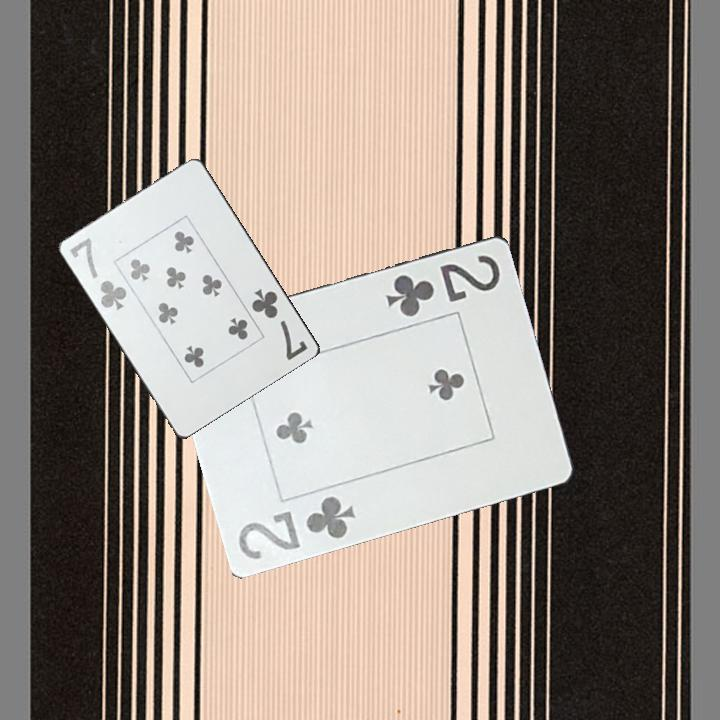2c: (235, 491, 360, 562), (382, 250, 504, 320)
7c: (66, 234, 130, 313), (248, 285, 311, 364)
